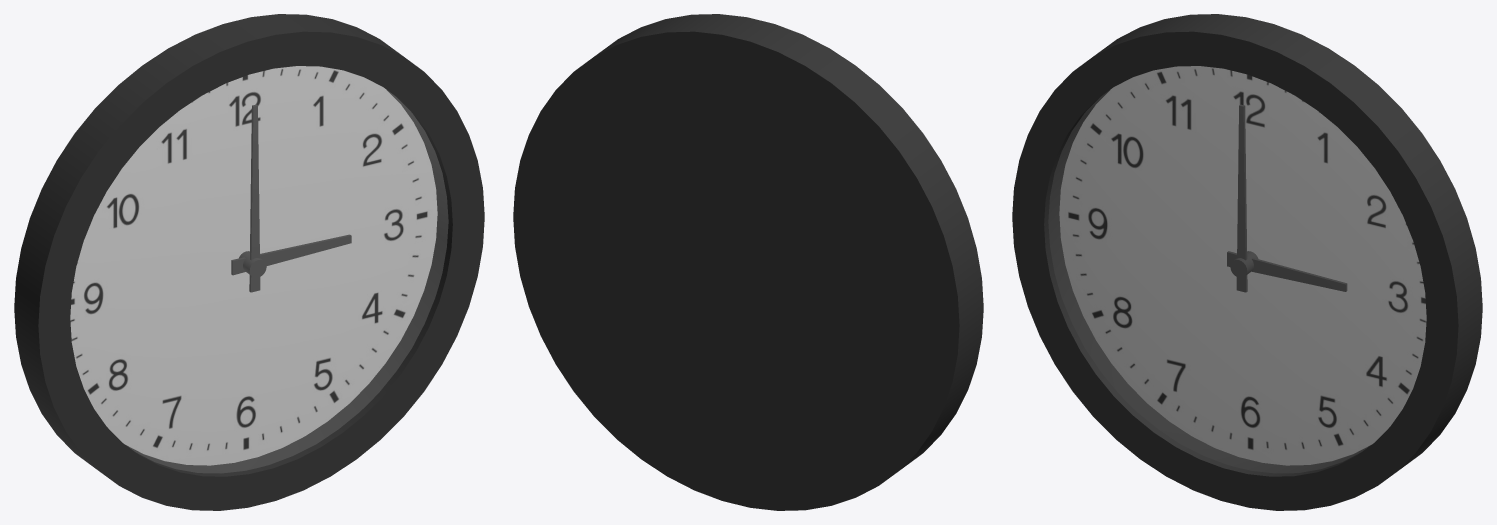
File: AnalogClock_New.fbx
3 renders of one model, left to right at view 1: azimuth 30°, elevation 25°; view 2: azimuth 150°, elevation 25°; view 3: azimuth 330°, elevation 25°, orthographic.
Visible parts, largest first — view 1: clockGlass, clockFaceBase, clockFrame, minuteArm, hourArm; view 2: clockFrame; view 3: clockGlass, clockFaceBase, clockFrame, minuteArm, hourArm.
Boxes of the visible parts, <box> form: clockGlass: <box>70,66,448,472</box>; clockFaceBase: <box>70,66,437,465</box>; clockFrame: <box>14,14,484,510</box>; minuteArm: <box>249,104,260,292</box>; hourArm: <box>231,234,351,275</box>; clockFrame: <box>513,14,983,510</box>; clockGlass: <box>1048,66,1426,472</box>; clockFaceBase: <box>1059,66,1426,465</box>; clockFrame: <box>1012,14,1482,510</box>; minuteArm: <box>1236,104,1247,292</box>; hourArm: <box>1227,251,1347,291</box>.
Size of the model in its own units: 3.53 by 3.52 by 0.3646.
